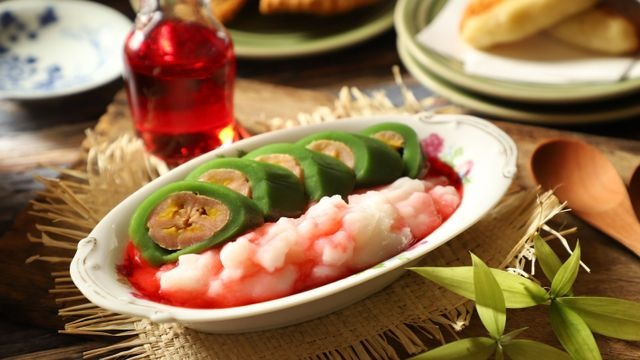pisang_ijo: (138, 180, 254, 273)
